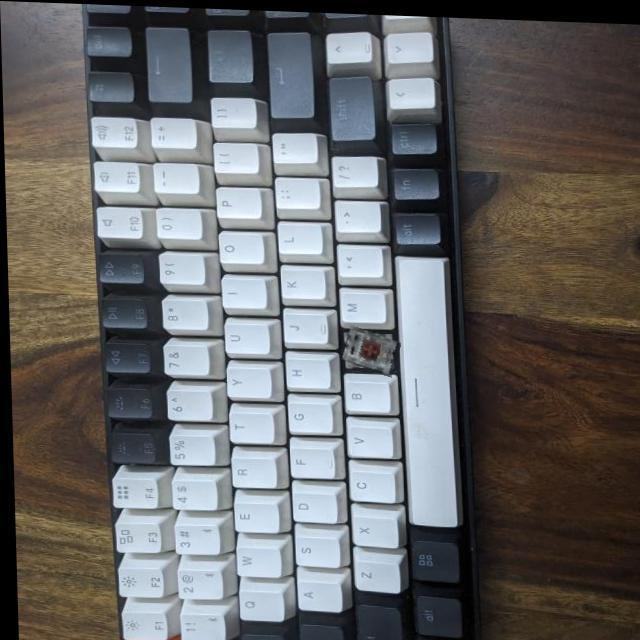key-switch: (339, 325, 397, 371)
